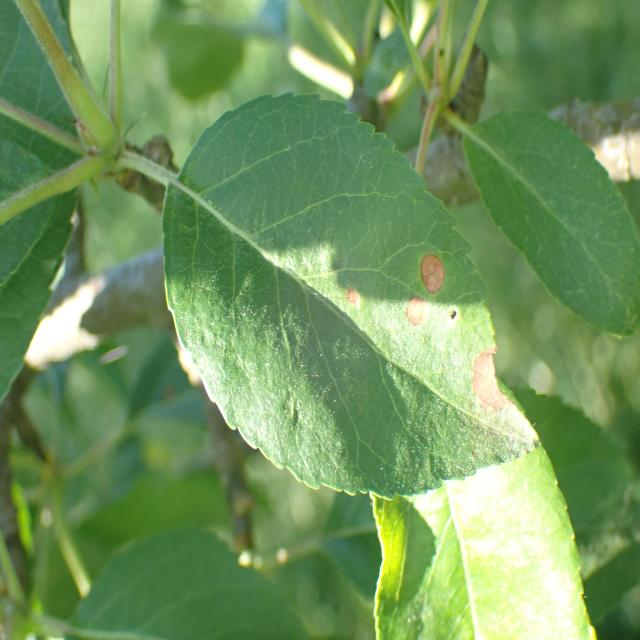Black Rot: (465, 341, 522, 429), (403, 246, 456, 296), (396, 286, 424, 349), (341, 282, 365, 314)
